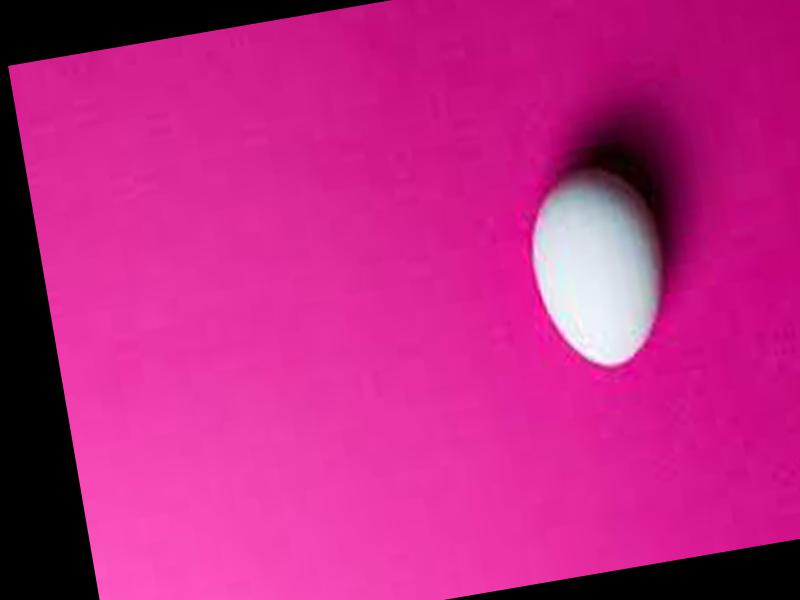Eggs: (518, 160, 677, 376)
